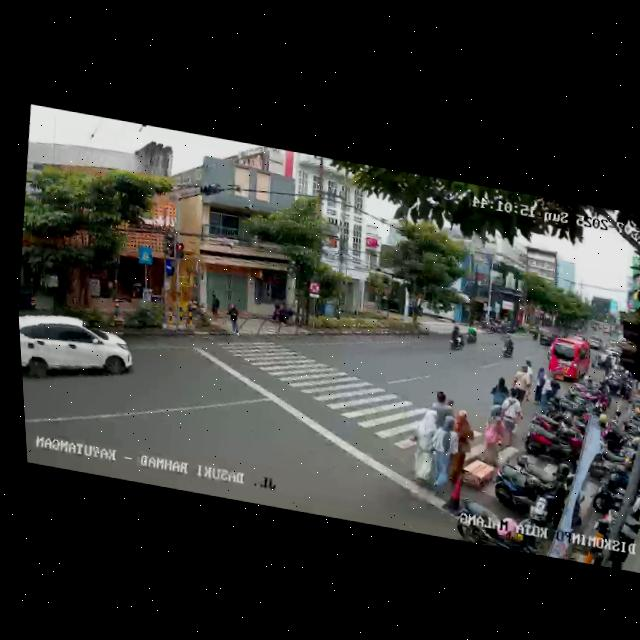car: (18, 306, 141, 397), (544, 333, 595, 385)
motorcycle: (446, 322, 467, 353), (499, 330, 518, 359), (463, 323, 480, 345)
person: (436, 405, 481, 487), (421, 411, 464, 494), (401, 403, 441, 488), (492, 385, 528, 451), (479, 410, 507, 466), (425, 387, 457, 433), (484, 373, 512, 424), (528, 363, 551, 406), (510, 360, 531, 403), (516, 357, 535, 402), (224, 300, 244, 338)
